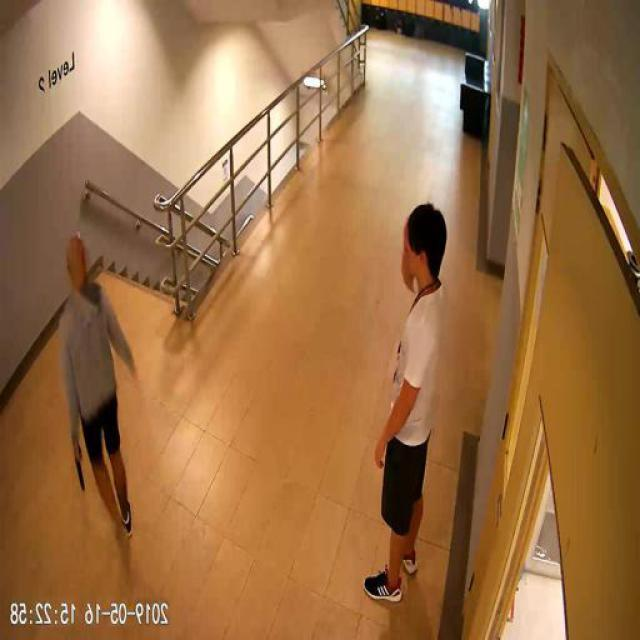weapon: (68, 442, 88, 493)
